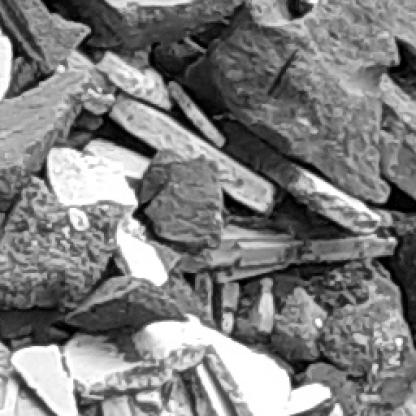cementitious_debris: (1, 2, 414, 414)
